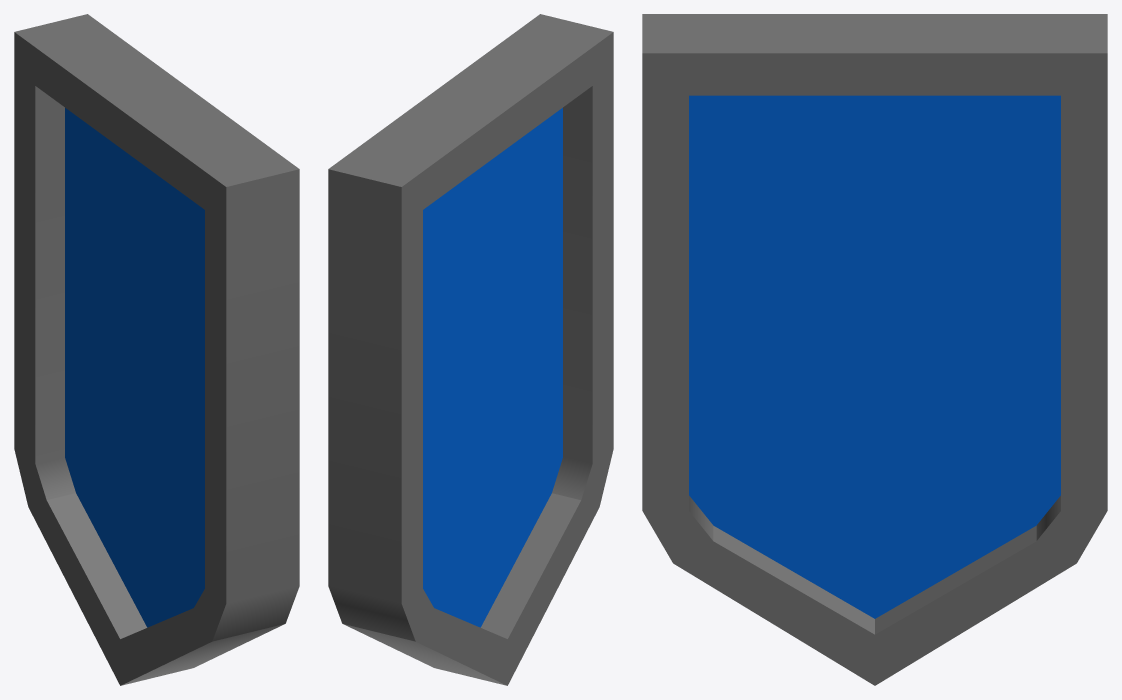
File: Shield 1.fbx
3 renders of one model, left to right at view 1: azimuth 30°, elevation 25°; view 2: azimuth 150°, elevation 25°; view 3: azimuth 270°, elevation 25°, orthographic. The views are drawn at different scales.
Visible parts, largest first — view 1: pCube1; view 2: pCube1; view 3: pCube1.
Part boxes in pixels (left/top/right/bottom): pCube1: left=14, top=14, right=299, bottom=685; pCube1: left=328, top=14, right=613, bottom=685; pCube1: left=642, top=14, right=1107, bottom=685.
Size of the model in its own units: 0.002 by 0.015 by 0.01.
